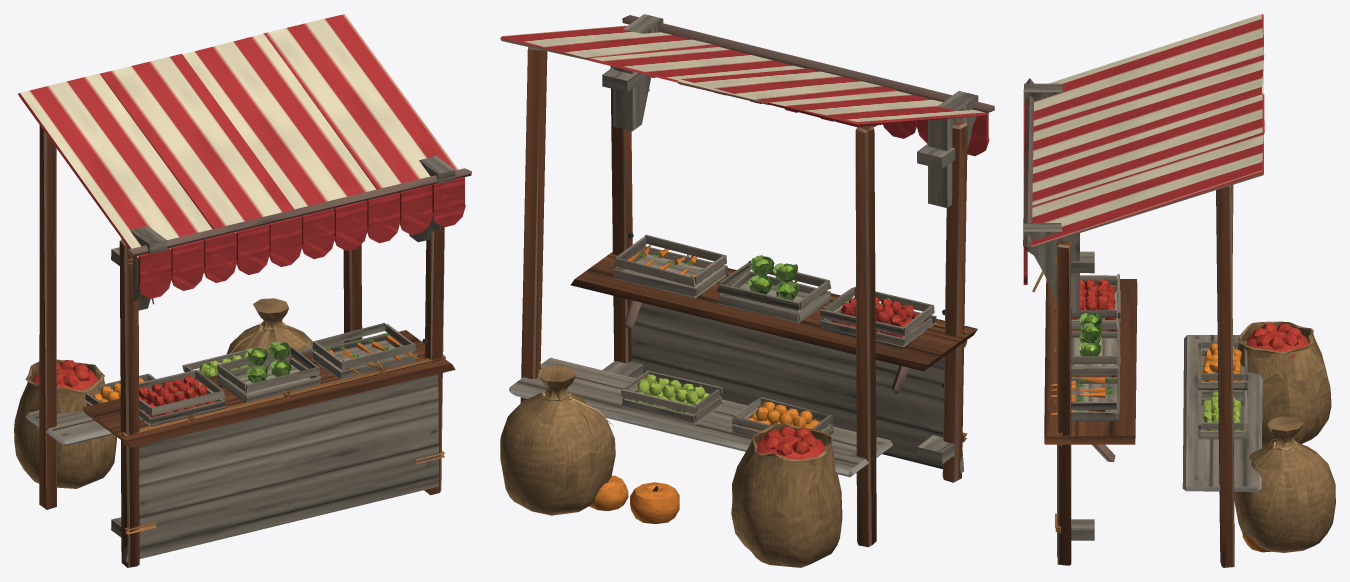
The model's file is SM_Market_Stall_Red_LOD2.gltf.
3 renders of one model, left to right at view 1: azimuth 30°, elevation 25°; view 2: azimuth 150°, elevation 25°; view 3: azimuth 270°, elevation 25°, orthographic. The views are drawn at different scales.
Parts seen in each view (by area): view 1: SM_Market_Stall_Red_LOD2; view 2: SM_Market_Stall_Red_LOD2; view 3: SM_Market_Stall_Red_LOD2.
Part boxes in pixels (x1,y1,x2,y2): SM_Market_Stall_Red_LOD2: (14, 14, 471, 567); SM_Market_Stall_Red_LOD2: (500, 14, 994, 567); SM_Market_Stall_Red_LOD2: (1023, 14, 1335, 567).
Bounding box in the file's own units: 2.52 × 2.83 × 2.01.
Materials: 1 (1 with a texture image).
